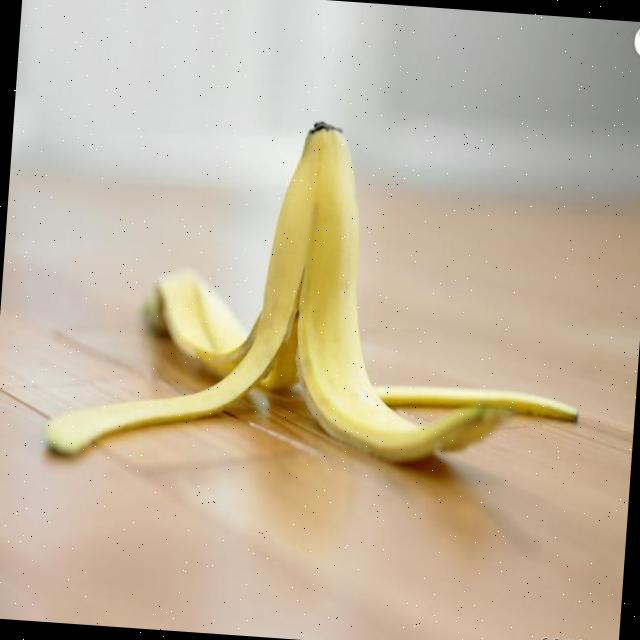banana-peel: (41, 101, 595, 491)
